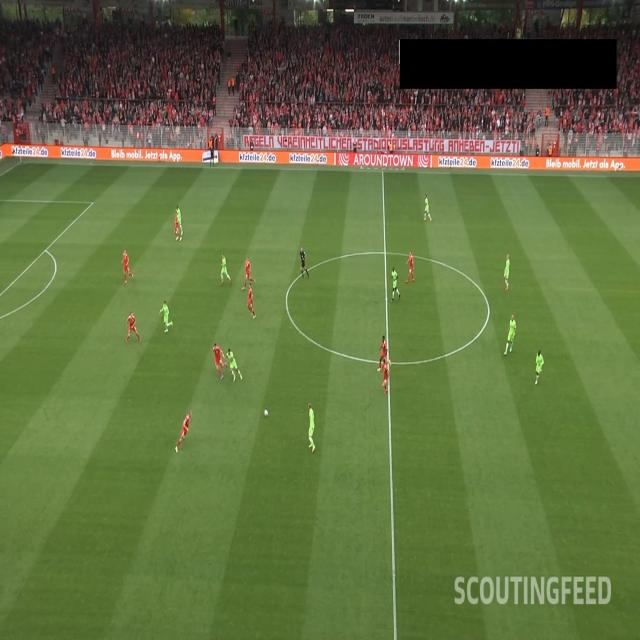ball: (263, 408, 269, 418)
